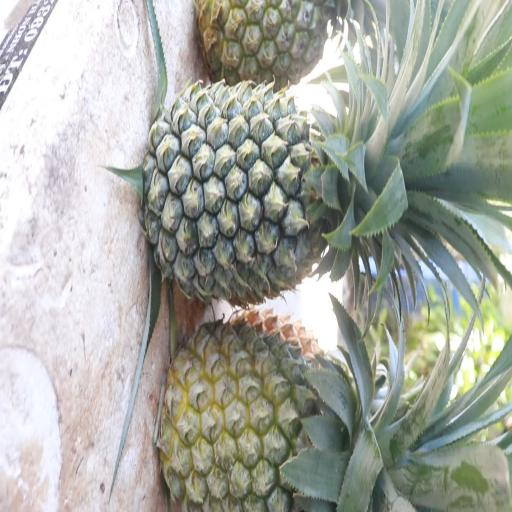------------------------------: (163, 328, 384, 511)
